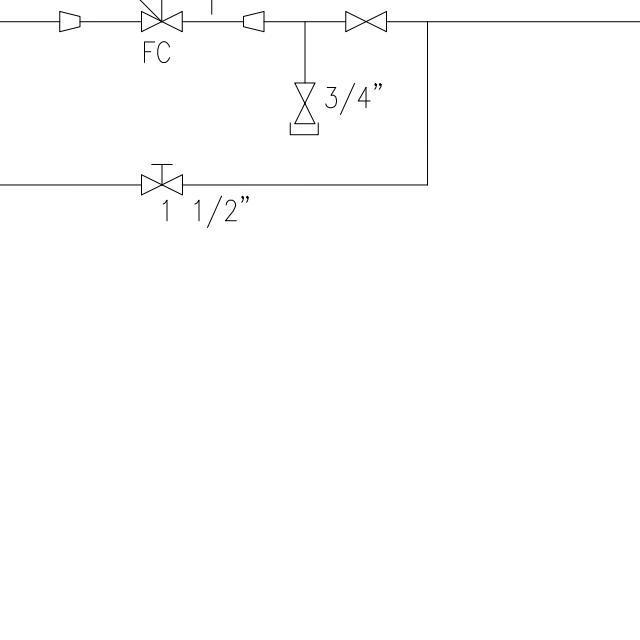EC: (285, 53, 326, 139)
GV: (341, 9, 391, 37), (293, 78, 317, 126)
HV: (136, 158, 186, 200)
SP: (53, 8, 84, 36), (238, 8, 268, 34)
